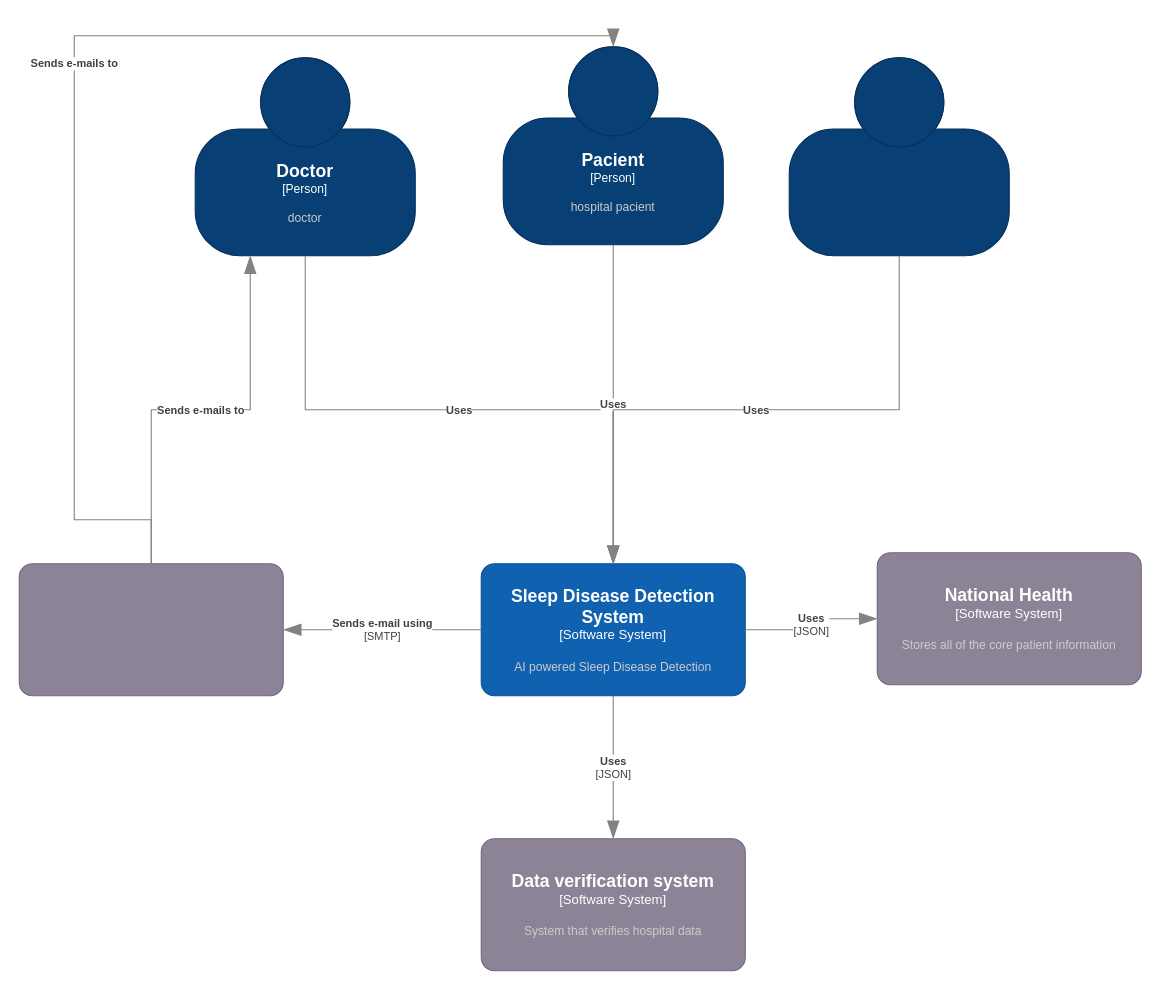
Image size: 1161x990. Some labels were removed from this diagram. Here are the shapes that lost their labels. From the top down, the centre of each, then its label:
At point (898, 156): "Admin [Person] System Admin".
At point (150, 629): "E-mail System [Software System] Hospital e-mail exchange system.".
